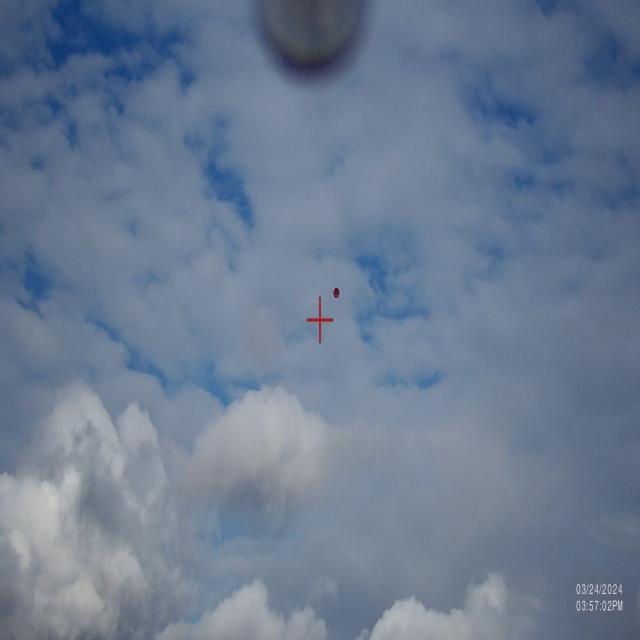entire: (326, 282, 344, 305)
